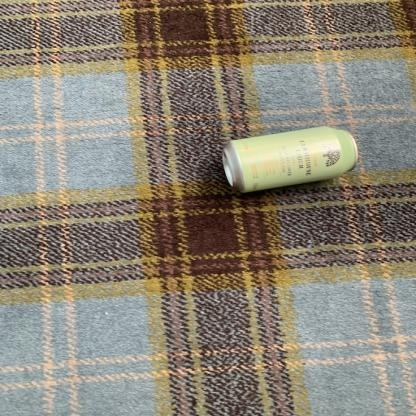trash: (223, 127, 357, 192)
